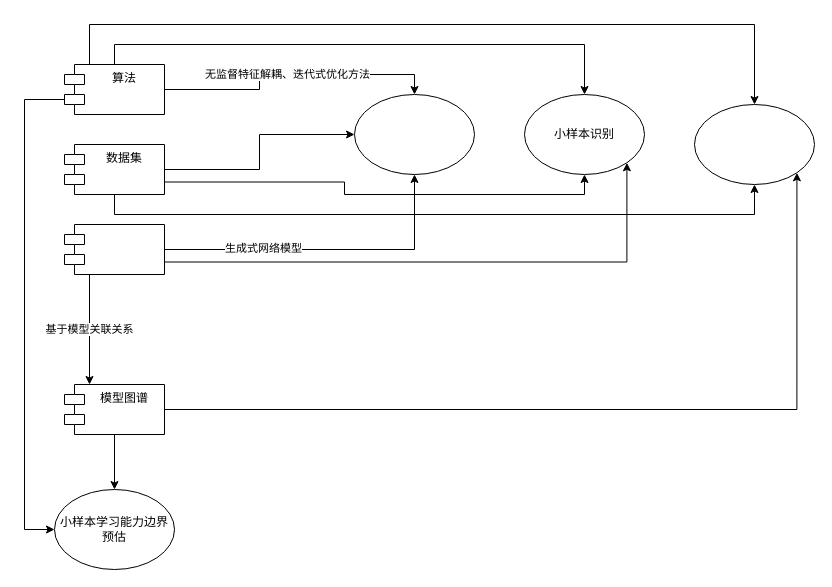
This 832x587 diagram has some shape labels left out. The box of each missing label's shape, as (x1, y1, x2, y2) in pixels:
样本生成: (354, 94, 474, 174)
模型: (64, 224, 164, 274)
零样本识别: (694, 104, 814, 184)
